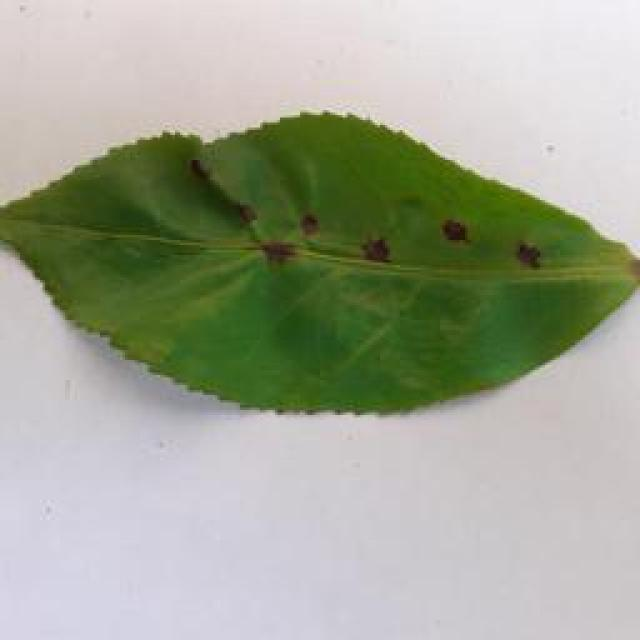Helopeltis: (0, 94, 638, 426)
